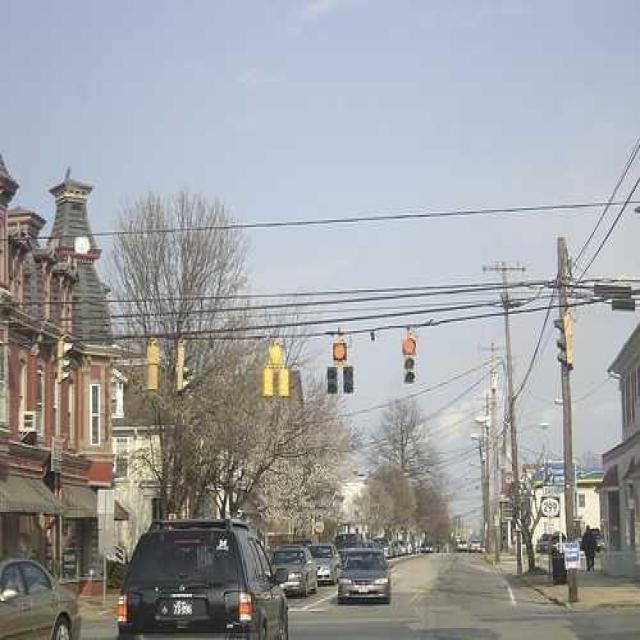Traffic Light -Red-: (320, 342, 362, 398), (399, 334, 418, 386)
